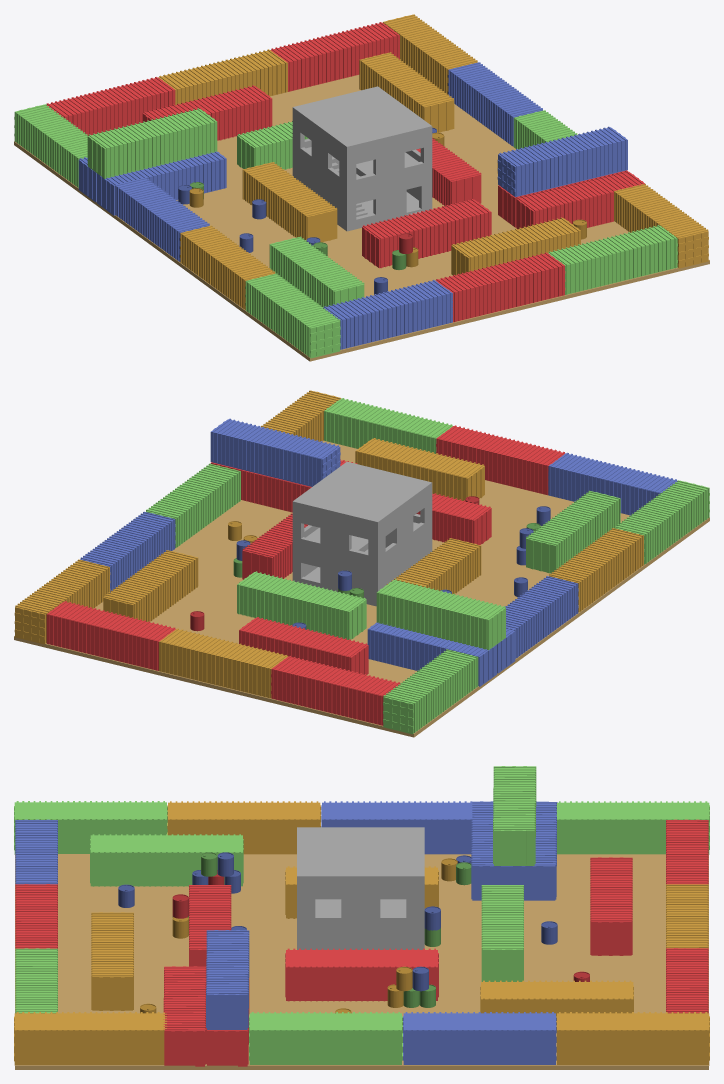
Rendered from ContainersMap.fbx.
3 views of the same model, one above another, from view 1: azimuth 30°, elevation 25°; view 2: azimuth 150°, elevation 25°; view 3: azimuth 270°, elevation 25° (orthographic). The views are drawn at different scales.
Visible parts, largest first — view 1: Cube.001, Cube.002, Cube.029, Cube.028, Cube.011, Cube.006, Cube.005, Cube.004, Cube.010, Cube.016, Cube.008, Cube.014 (+18 smaller); view 2: Cube.001, Cube.002, Cube.028, Cube.029, Cube.007, Cube.016, Cube.014, Cube.017, Cube.013, Cube.005, Cube.026, Cube.006 (+17 smaller); view 3: Cube.001, Cube.002, Cube.018, Cube.015, Cube.019, Cube.012, Cube.026, Cube.013, Cube.009, Cube.022, Cube.023, Cube.010 (+18 smaller).
Part boxes in pixels (box(x1,y1,x2,y2)): Cube.001: box(14, 75, 709, 361); Cube.002: box(292, 86, 432, 231); Cube.029: box(497, 126, 627, 197); Cube.028: box(87, 108, 217, 178); Cube.011: box(548, 225, 677, 294); Cube.006: box(323, 279, 452, 349); Cube.005: box(435, 252, 565, 322); Cube.004: box(362, 199, 491, 268); Cube.010: box(245, 273, 340, 358); Cube.016: box(271, 22, 399, 91); Cube.008: box(242, 162, 337, 242); Cube.014: box(46, 77, 175, 135); Cube.001: box(14, 440, 709, 737); Cube.002: box(292, 461, 432, 606); Cube.028: box(376, 579, 505, 650); Cube.029: box(210, 418, 340, 486); Cube.007: box(237, 571, 366, 639); Cube.016: box(46, 601, 175, 670); Cube.014: box(271, 656, 400, 725); Cube.017: box(159, 628, 287, 698); Cube.013: box(383, 649, 478, 734); Cube.005: box(436, 425, 564, 495); Cube.026: box(526, 490, 620, 573); Cube.006: box(548, 452, 677, 515); Cube.001: box(15, 854, 708, 1069); Cube.002: box(297, 827, 424, 949); Cube.018: box(403, 1012, 556, 1064); Cube.015: box(556, 1012, 709, 1065); Cube.019: box(249, 1012, 402, 1064); Cube.012: box(14, 1012, 167, 1065); Cube.026: box(90, 834, 243, 886); Cube.013: box(556, 801, 709, 854); Cube.009: box(285, 948, 438, 1001); Cube.022: box(167, 801, 320, 854); Cube.023: box(321, 801, 474, 854); Cube.010: box(14, 801, 167, 854).
Bounding box in the file's own units: 5019 × 1053 × 6418.
